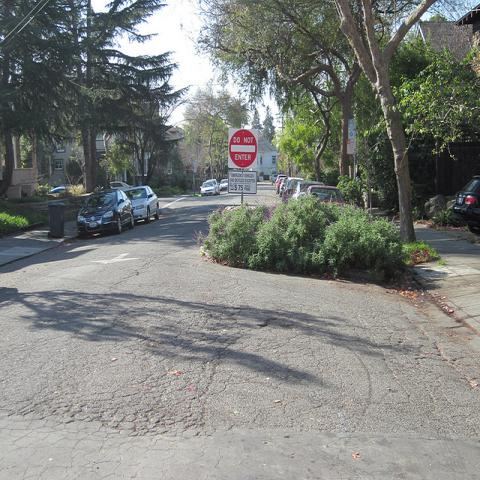car: (77, 188, 136, 238), (449, 173, 479, 236), (126, 185, 160, 221), (308, 185, 346, 204), (292, 181, 325, 198), (281, 176, 304, 196), (200, 182, 217, 197), (205, 178, 220, 195), (279, 179, 287, 196), (276, 176, 284, 193), (219, 178, 228, 191)
